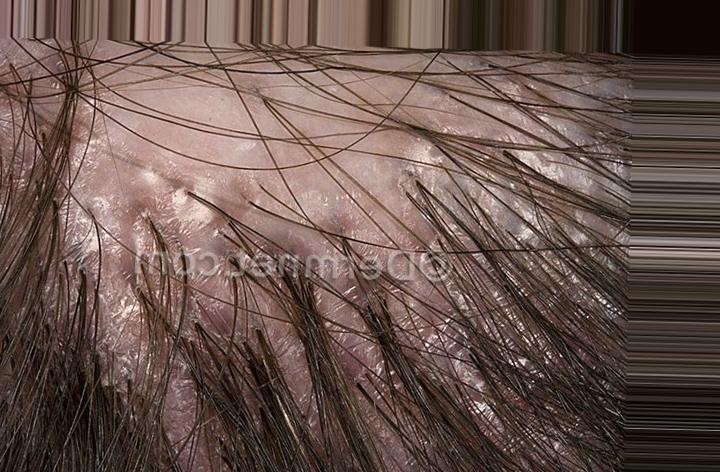Folliculitis: (83, 86, 414, 303)
